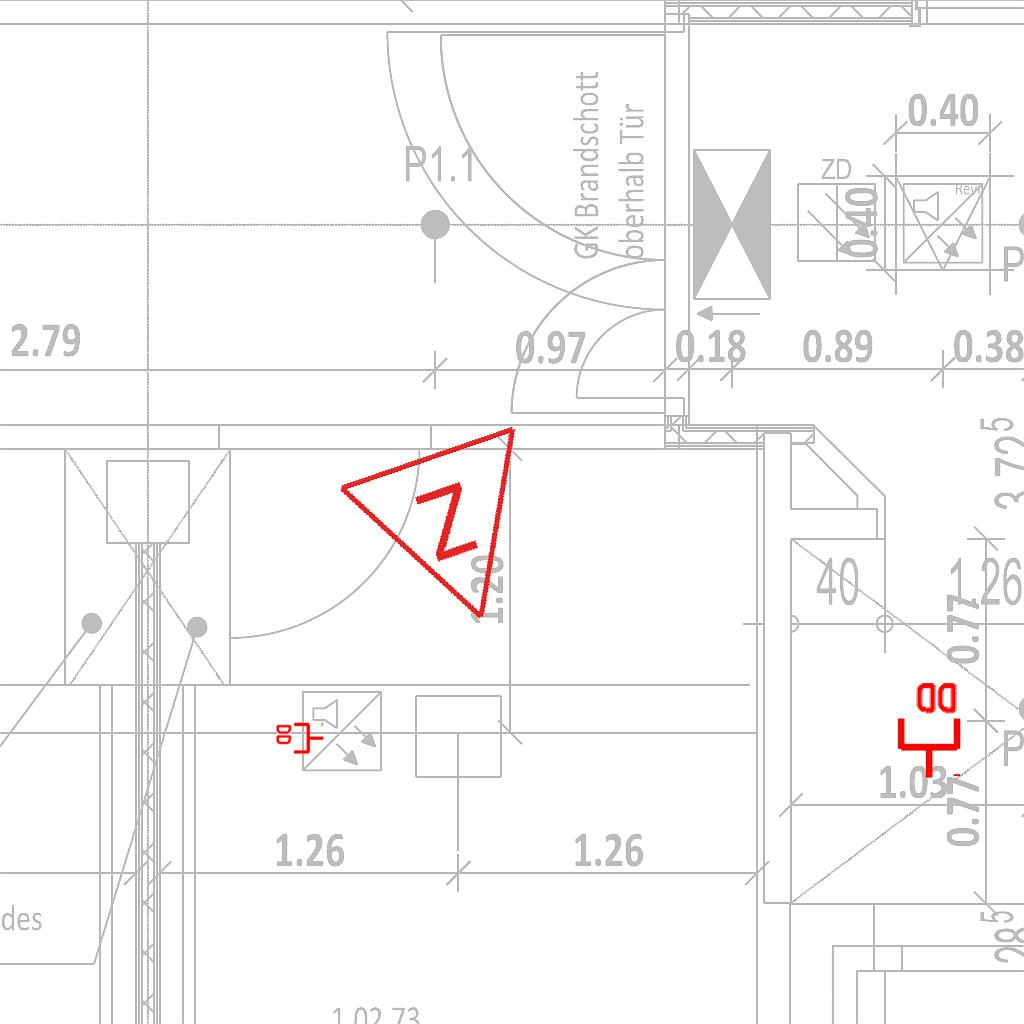Datenanschluss_zweifach: (893, 678, 962, 781), (274, 722, 325, 756)
Zimmersignalleuchte: (330, 409, 582, 663)
